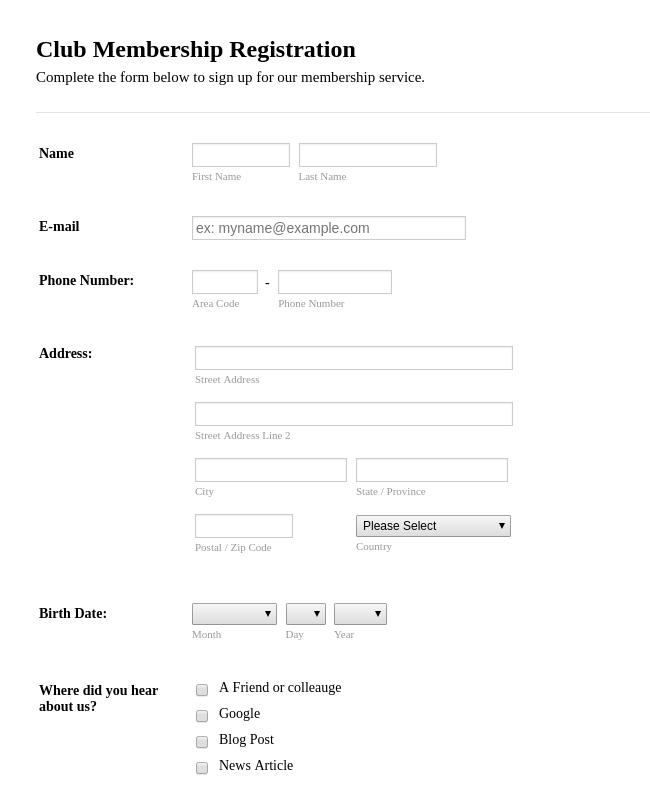checkbox: (189, 678, 350, 704), (187, 760, 304, 787), (189, 732, 290, 754), (190, 709, 267, 723)
dropdown: (350, 509, 518, 562)
textbox: (185, 210, 481, 249), (186, 263, 401, 313)
